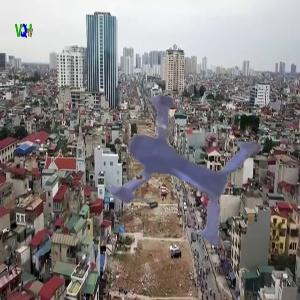drone: (71, 66, 263, 258)
